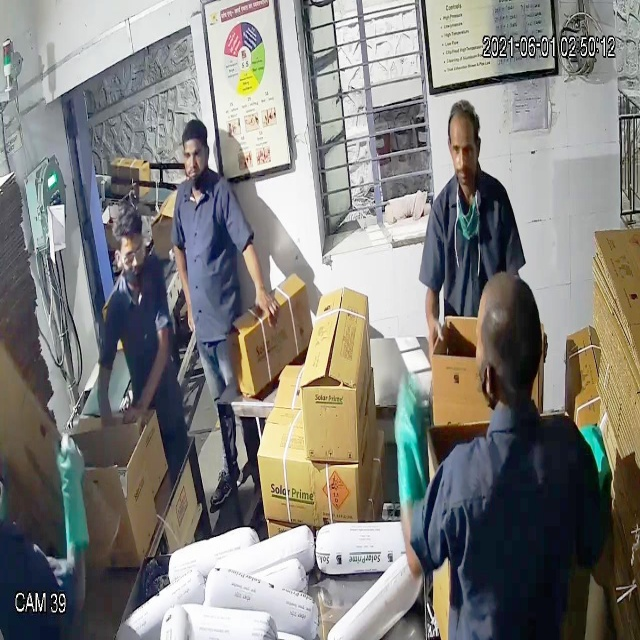Gafas: (111, 241, 150, 276)
Sin_gafas: (444, 131, 488, 165), (173, 140, 212, 169)
